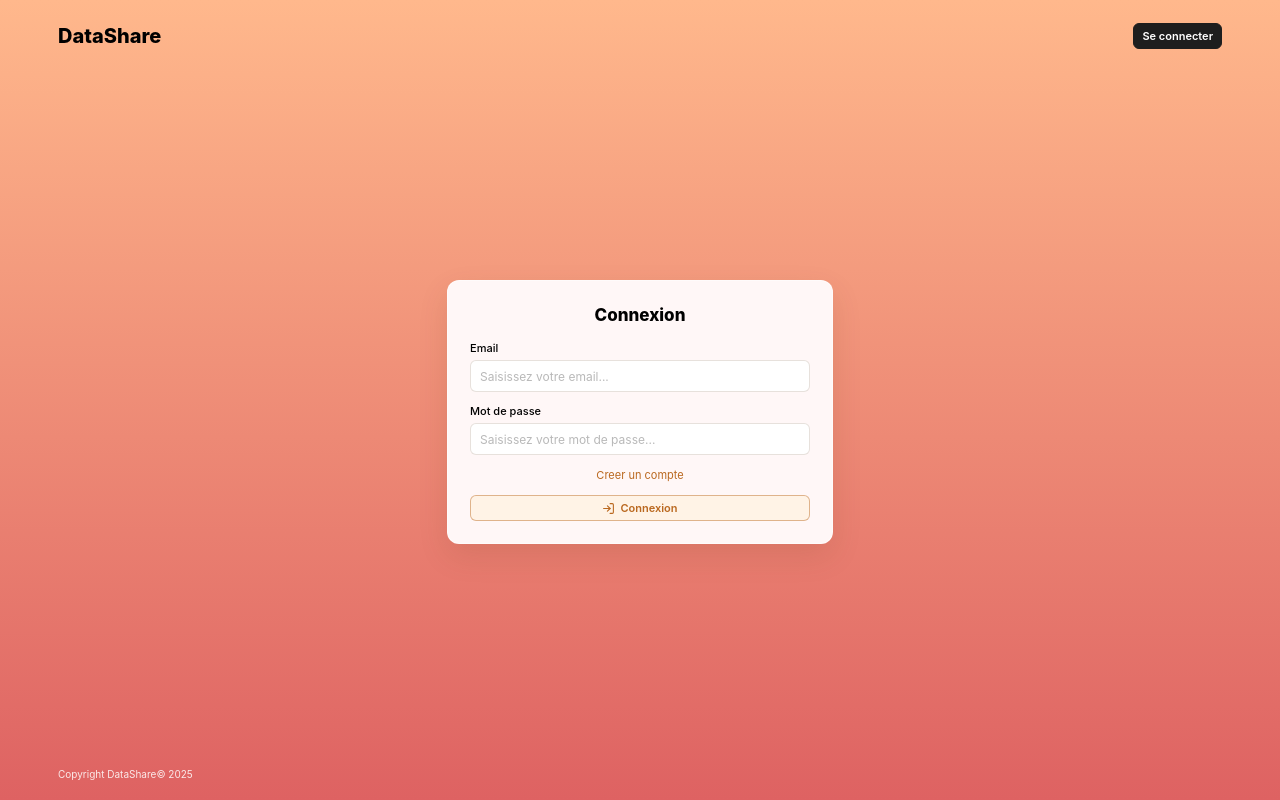
it: LoginPage › shows a clear client-side error when password is missing and does not submit
Type "user@example.com" into the field labelled "Email".
click(640, 376); type("user@example.com")  # box [470,360,810,392]
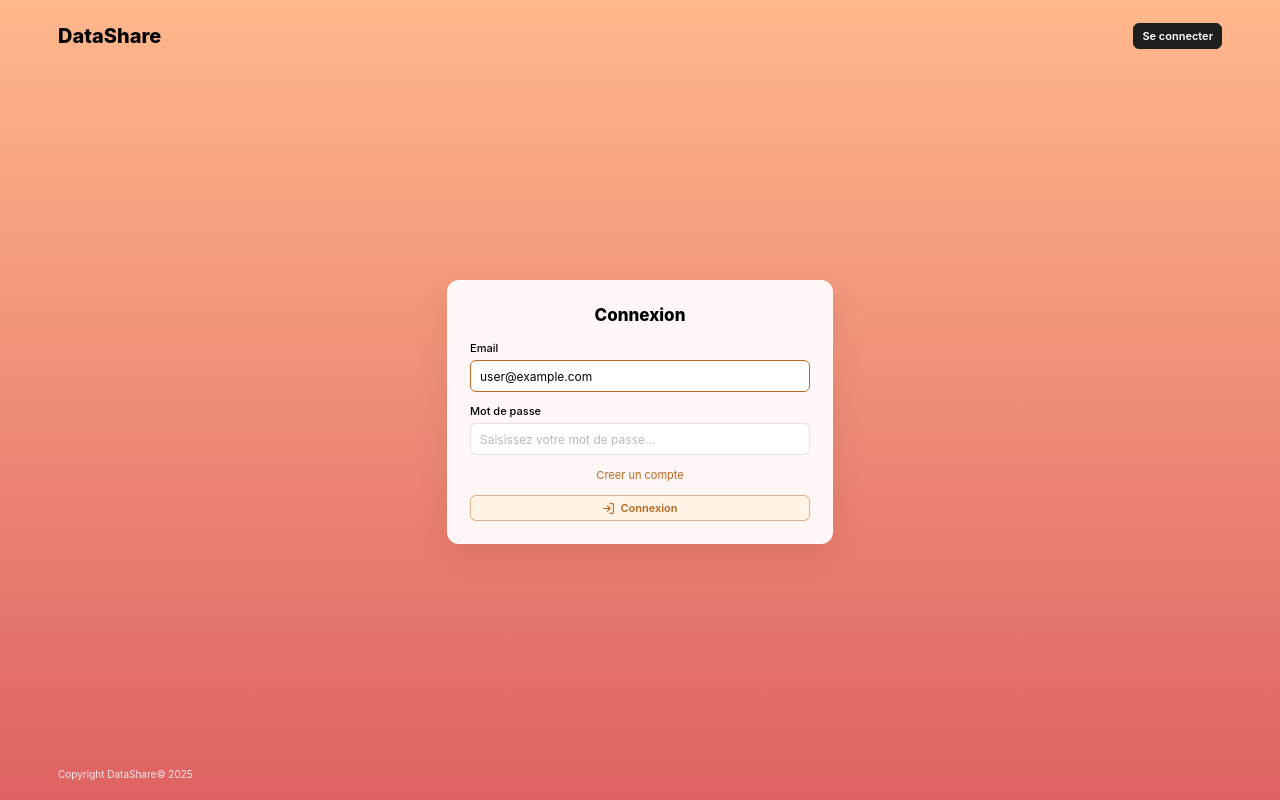
Click the button "Connexion".
click(640, 508)  # box [470,495,810,521]
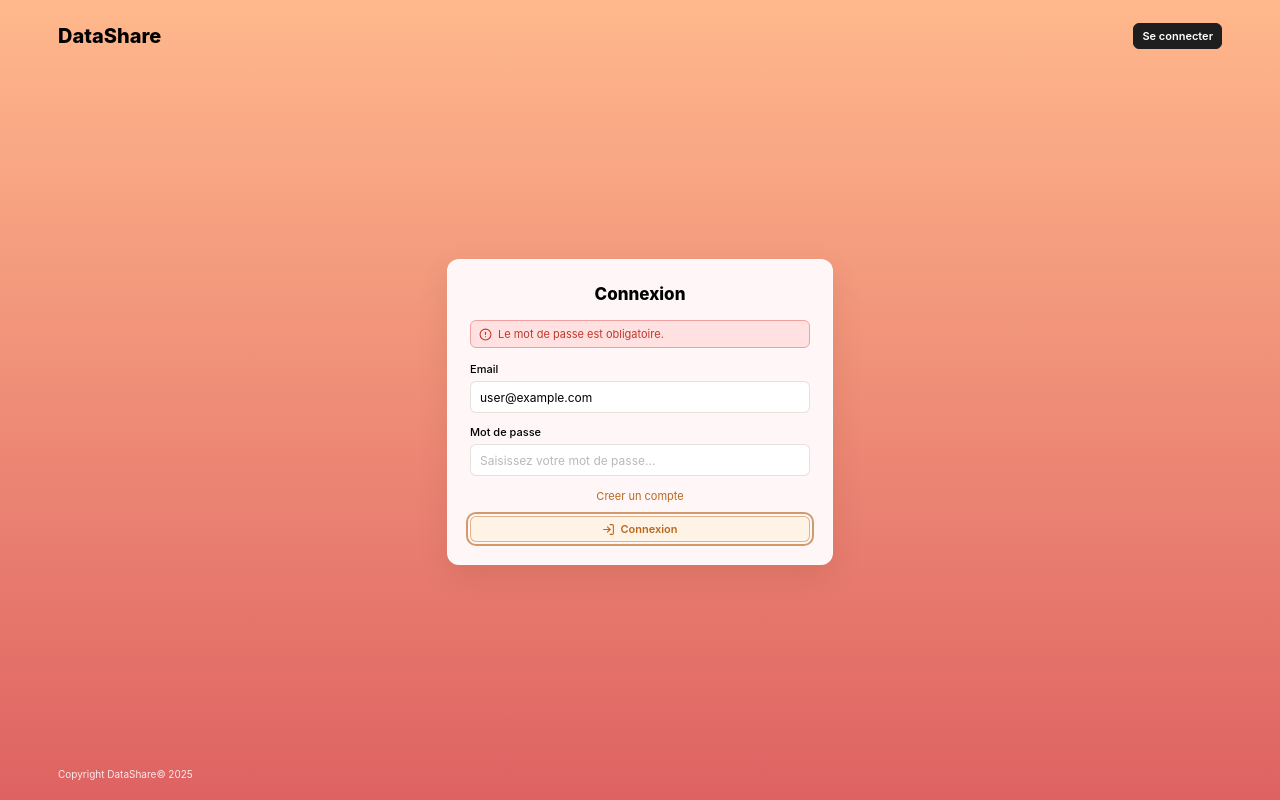
expect the text "Le mot de passe est obligatoire." is shown: met, box [498,327,664,341]
